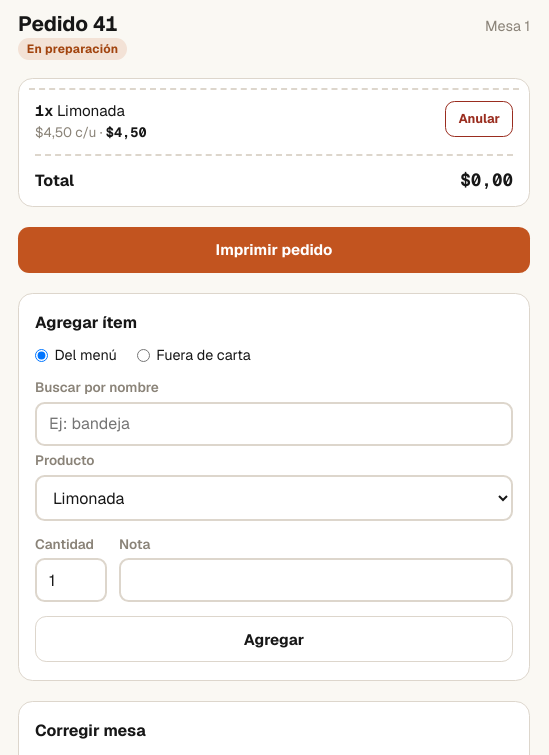
OrderBuilder (T66, RF-3/4/5/6/7) › create, send additions and print as separate steps › shows the printer warning when printing fails (RF-9)
Click the button "Imprimir pedido": coordinates (274, 250) [18,227,530,273]
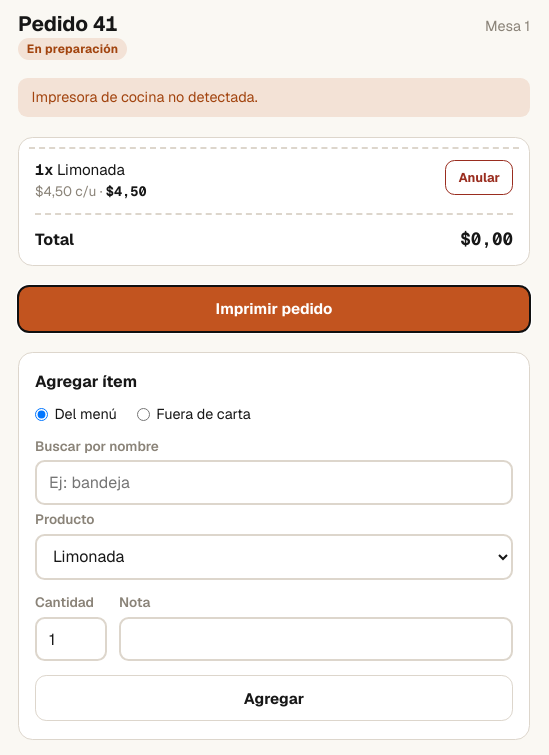
Expected: the text "Impresora de cocina no detectada." is shown, [18,78,530,117]
